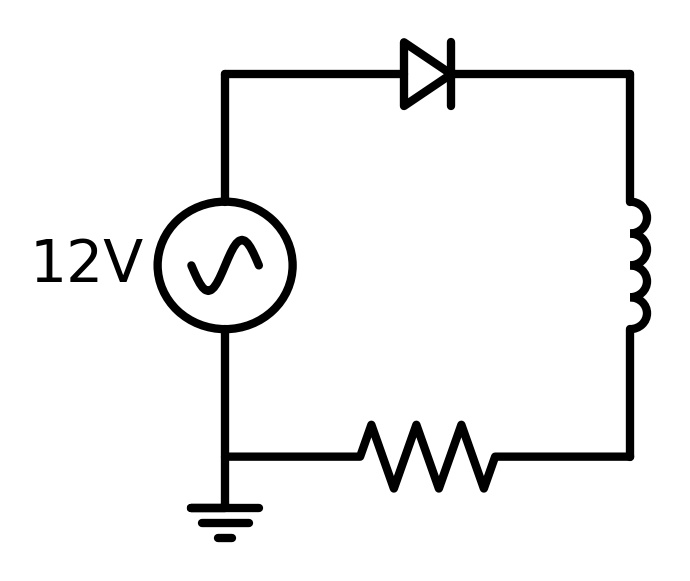diode: (382, 28, 472, 119)
ground: (184, 495, 267, 551)
inductor: (607, 188, 655, 343)
resistor: (350, 406, 504, 500)
sourceac: (150, 191, 303, 338)
